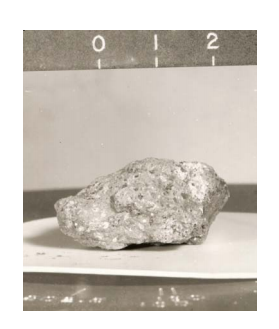Breccia: (32, 79, 225, 243)
